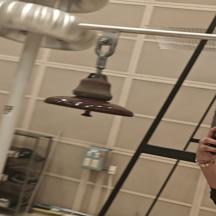insulator: (41, 70, 138, 130)
